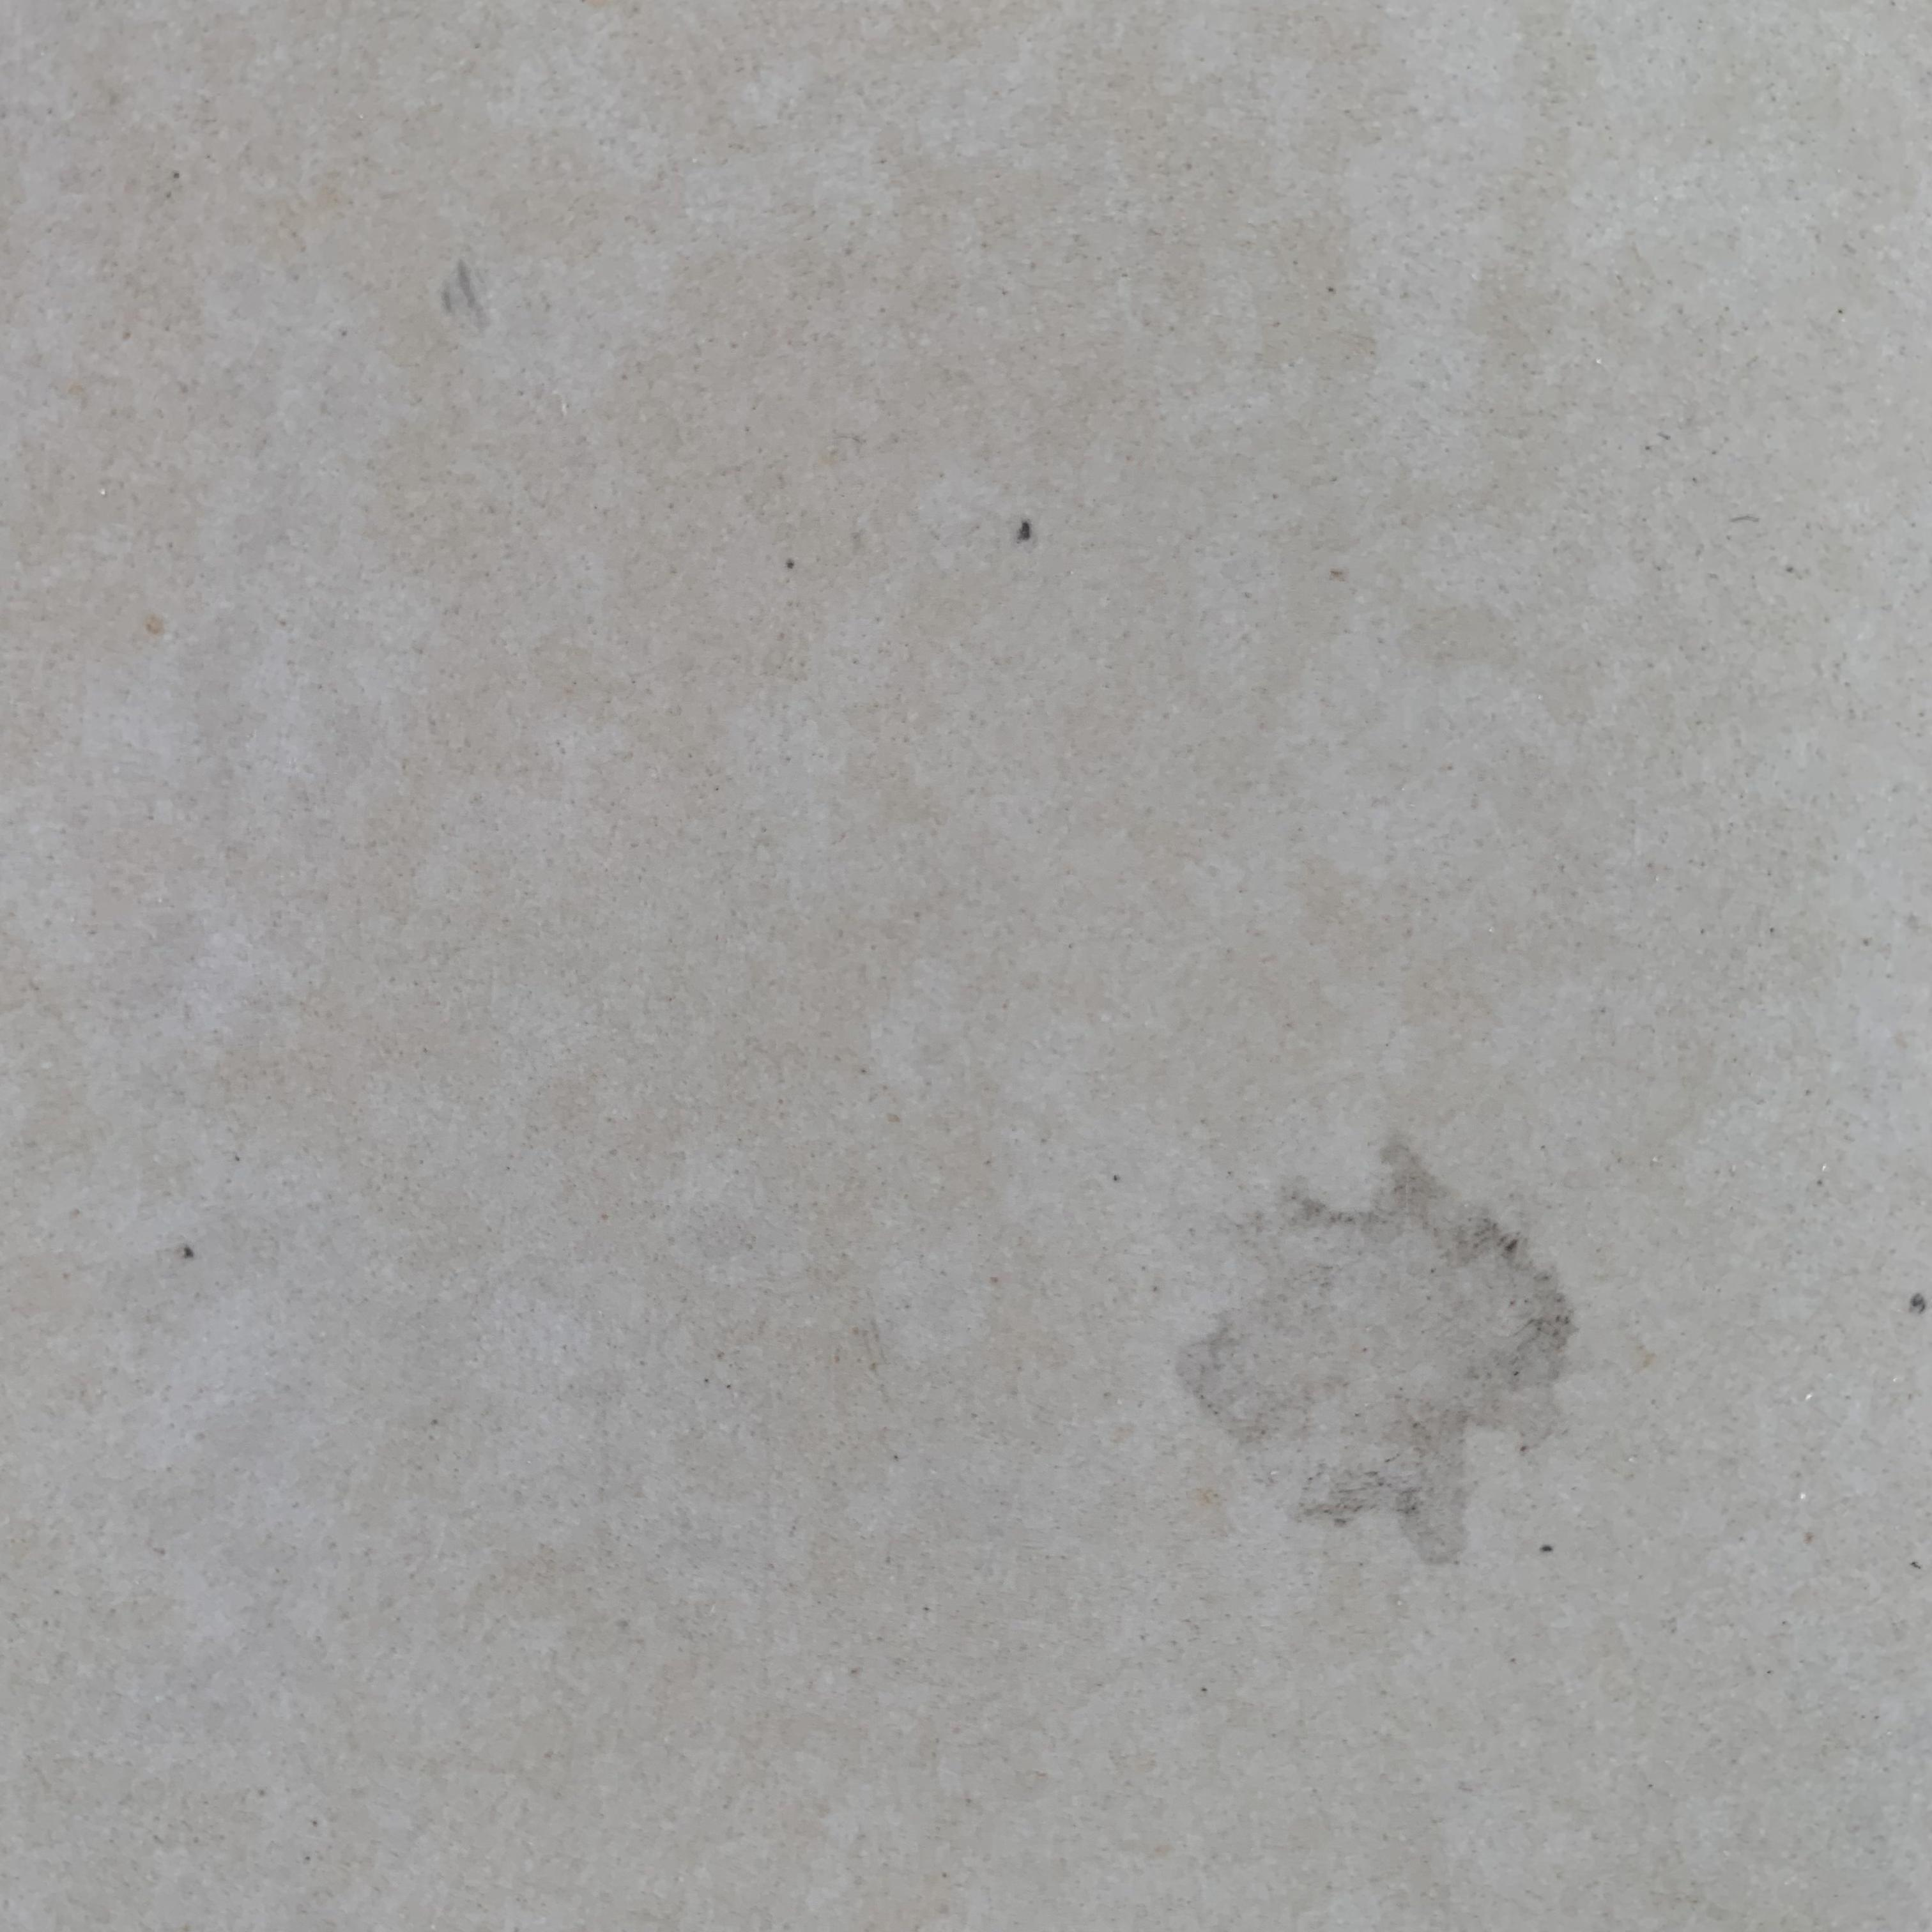grey spot: (1177, 1134, 1578, 1562)
